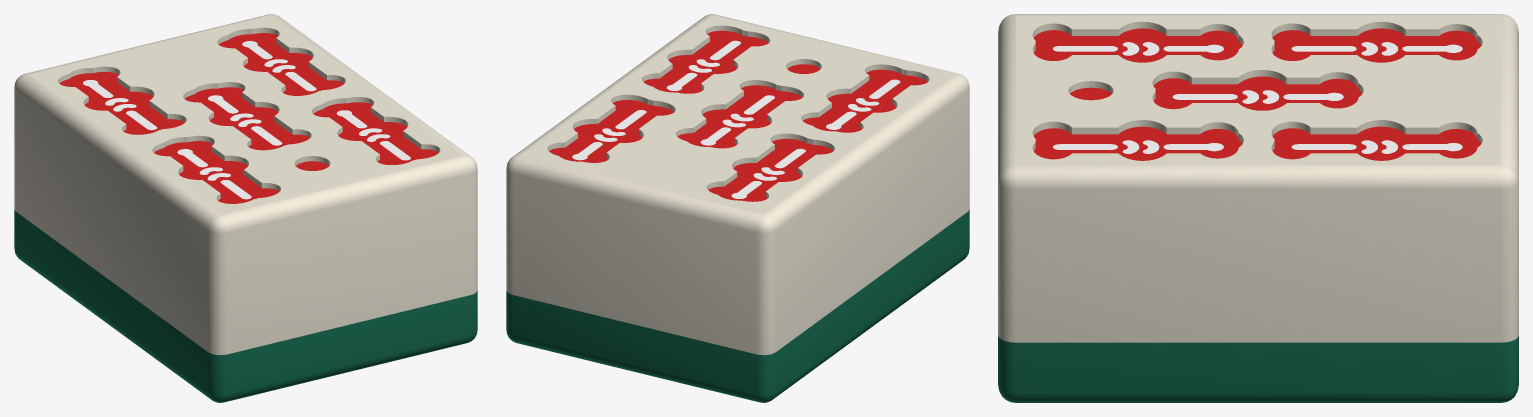
File: Sou5-Dora.glb
3 renders of one model, left to right at view 1: azimuth 30°, elevation 25°; view 2: azimuth 150°, elevation 25°; view 3: azimuth 270°, elevation 25°, orthographic. The views are drawn at different scales.
Visible parts, largest first — view 1: Sou5-Dora_body, Sou5-Dora_inset; view 2: Sou5-Dora_body, Sou5-Dora_inset; view 3: Sou5-Dora_body, Sou5-Dora_inset.
Part boxes in pixels (x1=…): Sou5-Dora_body: x1=14, y1=14, x2=477, y2=402; Sou5-Dora_inset: x1=59, y1=33, x2=438, y2=203; Sou5-Dora_body: x1=506, y1=14, x2=969, y2=402; Sou5-Dora_inset: x1=549, y1=30, x2=927, y2=201; Sou5-Dora_body: x1=998, y1=14, x2=1518, y2=402; Sou5-Dora_inset: x1=1034, y1=28, x2=1481, y2=160.
Bounding box in the file's own units: 0.024 × 0.016 × 0.032.
